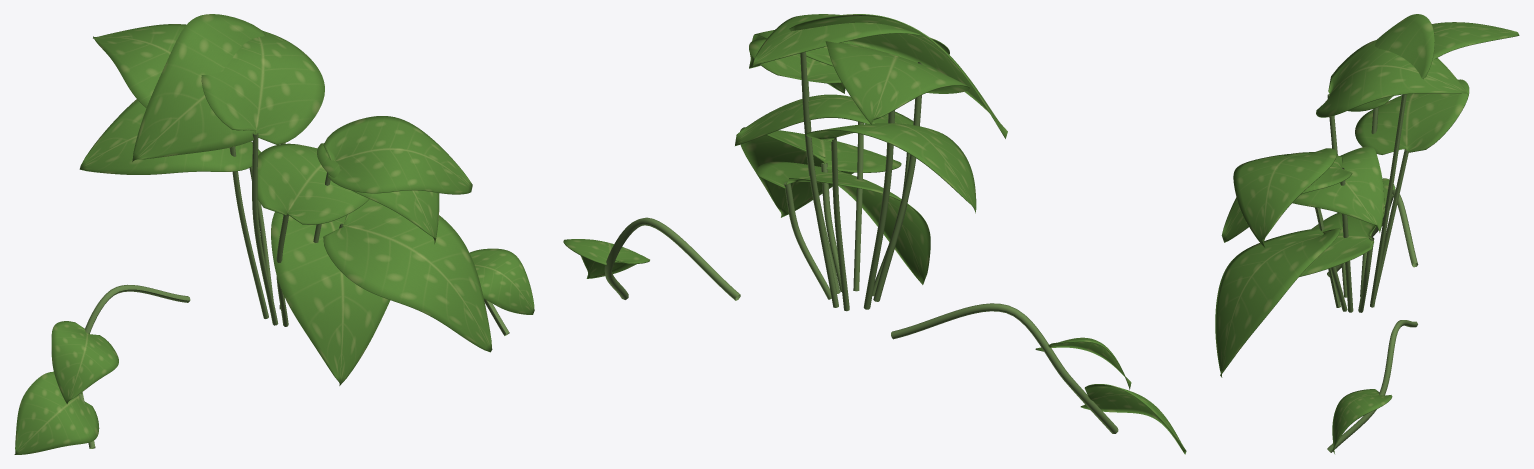
The model's file is pothos-stage-4-v06.glb.
3 views of the same model, side by side, from view 1: azimuth 30°, elevation 25°; view 2: azimuth 150°, elevation 25°; view 3: azimuth 270°, elevation 25° (orthographic). The views are drawn at different scales.
Visible parts, largest first — view 1: V06 pothos-stage-4 Leaf_8, V06 pothos-stage-4 Leaf_2, V06 pothos-stage-4 Leaf_5, V06 pothos-stage-4 Leaf_1, V06 pothos-stage-4 Leaf_3, V06 pothos-stage-4 Leaf_6, V06 pothos-stage-4 Leaf_7, V06 pothos-stage-4 Leaf_vine_0_1, V06 pothos-stage-4 Leaf_4, V06 pothos-stage-4 Leaf_vine_0_0, V06 pothos-stage-4 Leaf_vine_1_0, V06 pothos-stage-4 Leaf_0 (+4 smaller); view 2: V06 pothos-stage-4 Leaf_4, V06 pothos-stage-4 Leaf_5, V06 pothos-stage-4 Leaf_8, V06 pothos-stage-4 Leaf_7, V06 pothos-stage-4 Leaf_2, V06 pothos-stage-4 Leaf_1, V06 pothos-stage-4 Leaf_6, V06 pothos-stage-4 Vine_0, V06 pothos-stage-4 Vine_1, V06 pothos-stage-4 Leaf_vine_0_1, V06 pothos-stage-4 Leaf_vine_1_0, V06 pothos-stage-4 Petiole_2 (+9 smaller); view 3: V06 pothos-stage-4 Leaf_8, V06 pothos-stage-4 Leaf_1, V06 pothos-stage-4 Leaf_3, V06 pothos-stage-4 Leaf_7, V06 pothos-stage-4 Leaf_6, V06 pothos-stage-4 Leaf_2, V06 pothos-stage-4 Leaf_5, V06 pothos-stage-4 Leaf_4, V06 pothos-stage-4 Leaf_vine_1_0, V06 pothos-stage-4 Leaf_0, V06 pothos-stage-4 Petiole_2, V06 pothos-stage-4 Vine_1 (+5 smaller).
Boxes of the visible parts, x1=… form: V06 pothos-stage-4 Leaf_8: x1=323, y1=199, x2=492, y2=352; V06 pothos-stage-4 Leaf_2: x1=132, y1=14, x2=265, y2=161; V06 pothos-stage-4 Leaf_5: x1=271, y1=212, x2=390, y2=385; V06 pothos-stage-4 Leaf_1: x1=201, y1=31, x2=324, y2=144; V06 pothos-stage-4 Leaf_3: x1=323, y1=116, x2=472, y2=194; V06 pothos-stage-4 Leaf_6: x1=251, y1=143, x2=369, y2=224; V06 pothos-stage-4 Leaf_7: x1=79, y1=99, x2=261, y2=174; V06 pothos-stage-4 Leaf_vine_0_1: x1=14, y1=371, x2=99, y2=454; V06 pothos-stage-4 Leaf_4: x1=93, y1=24, x2=186, y2=107; V06 pothos-stage-4 Leaf_vine_0_0: x1=51, y1=321, x2=118, y2=404; V06 pothos-stage-4 Leaf_vine_1_0: x1=470, y1=248, x2=534, y2=314; V06 pothos-stage-4 Leaf_0: x1=317, y1=143, x2=439, y2=243; V06 pothos-stage-4 Leaf_4: x1=825, y1=41, x2=969, y2=124; V06 pothos-stage-4 Leaf_5: x1=756, y1=161, x2=930, y2=284; V06 pothos-stage-4 Leaf_8: x1=740, y1=127, x2=901, y2=217; V06 pothos-stage-4 Leaf_7: x1=806, y1=123, x2=976, y2=213; V06 pothos-stage-4 Leaf_2: x1=789, y1=14, x2=1007, y2=138; V06 pothos-stage-4 Leaf_1: x1=753, y1=14, x2=949, y2=65; V06 pothos-stage-4 Leaf_6: x1=735, y1=94, x2=913, y2=145; V06 pothos-stage-4 Vine_0: x1=891, y1=303, x2=1118, y2=433; V06 pothos-stage-4 Vine_1: x1=604, y1=217, x2=740, y2=300; V06 pothos-stage-4 Leaf_vine_0_1: x1=1080, y1=384, x2=1186, y2=454; V06 pothos-stage-4 Leaf_vine_1_0: x1=563, y1=239, x2=649, y2=278; V06 pothos-stage-4 Petiole_2: x1=800, y1=52, x2=838, y2=307; V06 pothos-stage-4 Leaf_8: x1=1215, y1=227, x2=1340, y2=377; V06 pothos-stage-4 Leaf_1: x1=1316, y1=39, x2=1467, y2=117; V06 pothos-stage-4 Leaf_3: x1=1233, y1=148, x2=1336, y2=247; V06 pothos-stage-4 Leaf_7: x1=1355, y1=79, x2=1469, y2=154; V06 pothos-stage-4 Leaf_6: x1=1292, y1=146, x2=1384, y2=232; V06 pothos-stage-4 Leaf_2: x1=1348, y1=14, x2=1434, y2=111; V06 pothos-stage-4 Leaf_5: x1=1299, y1=212, x2=1375, y2=276; V06 pothos-stage-4 Leaf_4: x1=1432, y1=22, x2=1519, y2=59; V06 pothos-stage-4 Leaf_vine_1_0: x1=1332, y1=389, x2=1392, y2=453; V06 pothos-stage-4 Leaf_0: x1=1221, y1=152, x2=1352, y2=242; V06 pothos-stage-4 Petiole_2: x1=1370, y1=94, x2=1406, y2=307; V06 pothos-stage-4 Vine_1: x1=1327, y1=320, x2=1417, y2=452.
Size of the model in its own units: 2.75 by 1.82 by 1.52.
2 materials, 1 textured.
